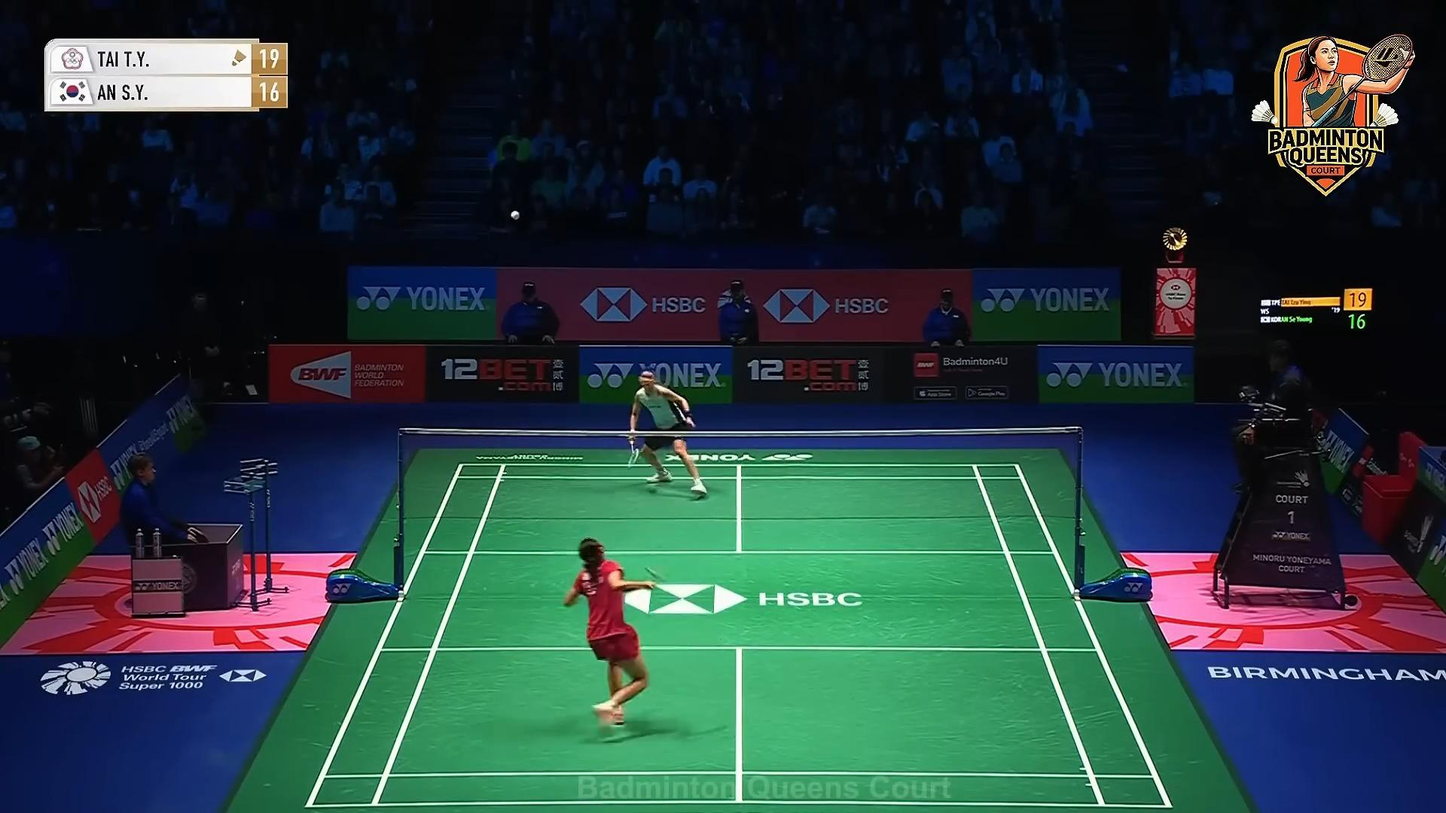shuttlecock: (510, 210, 520, 221)
